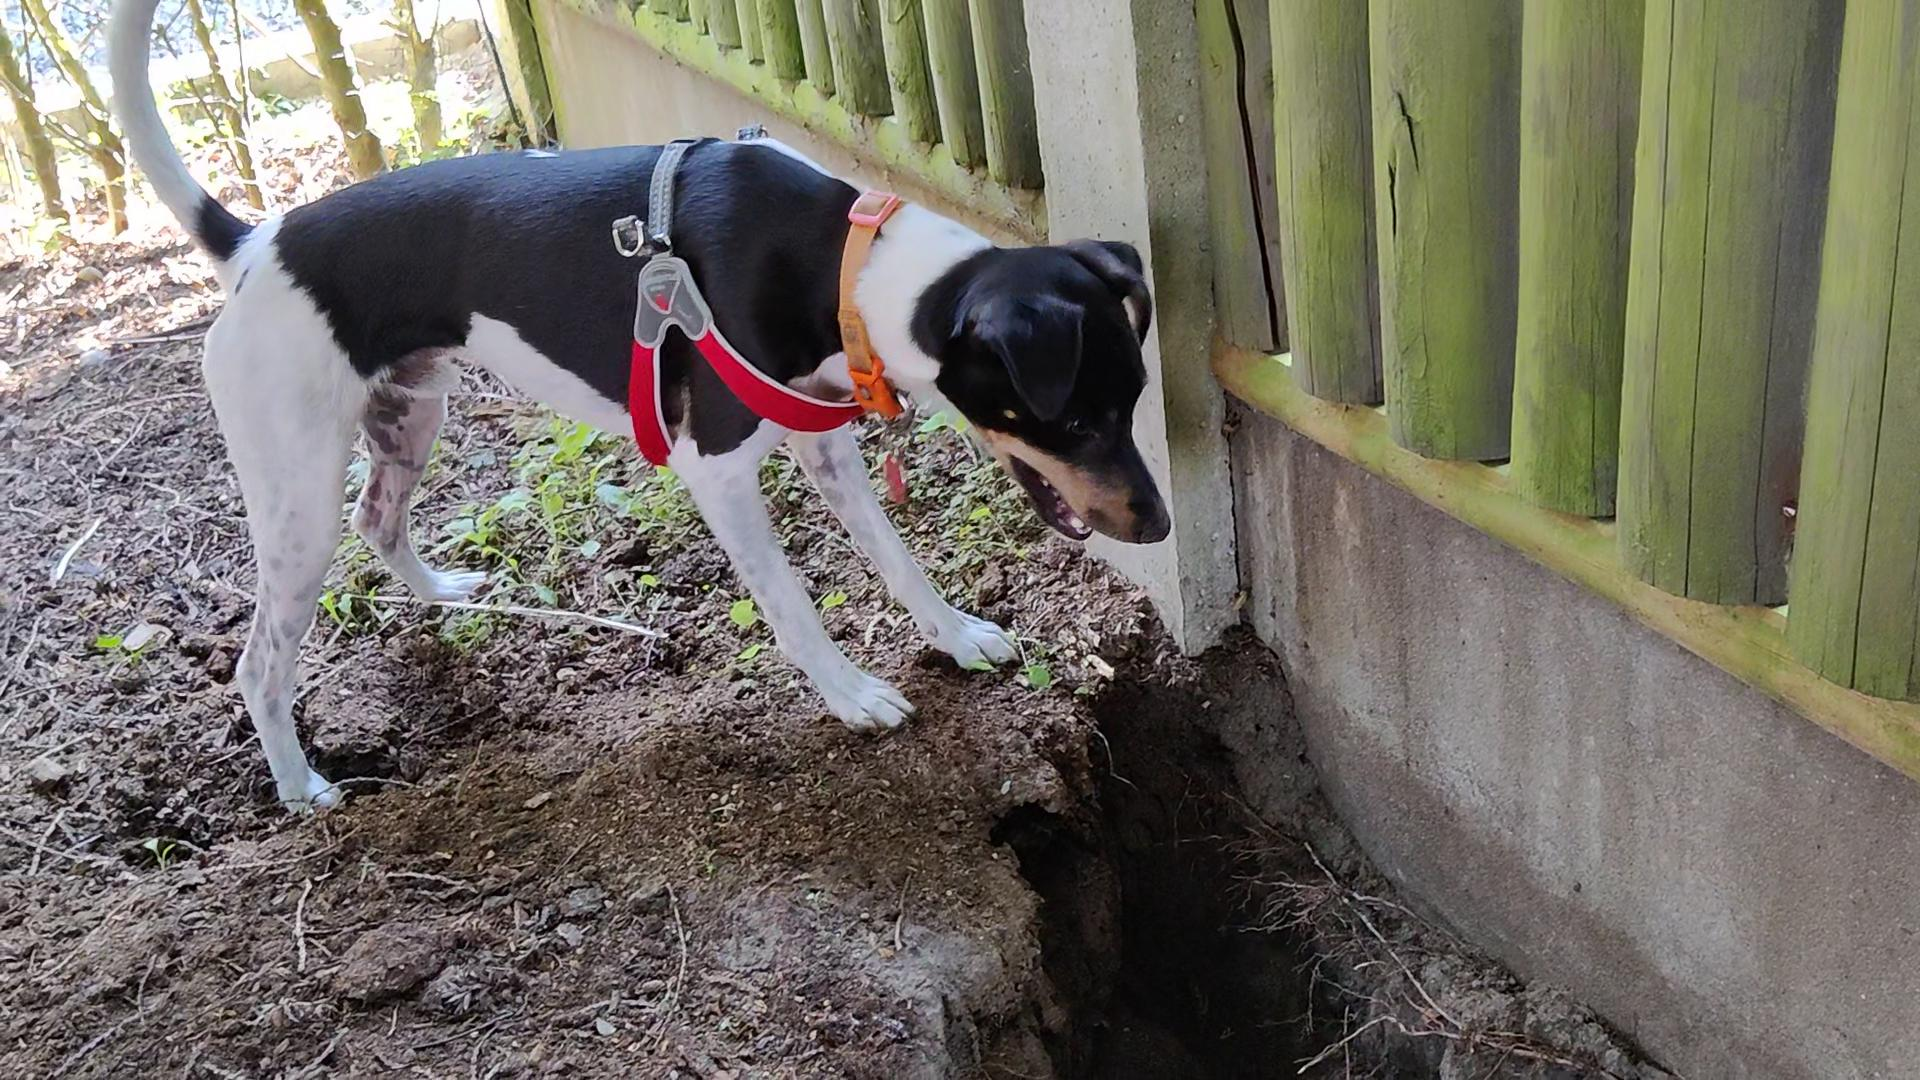Dog: (92, 0, 1188, 824)
